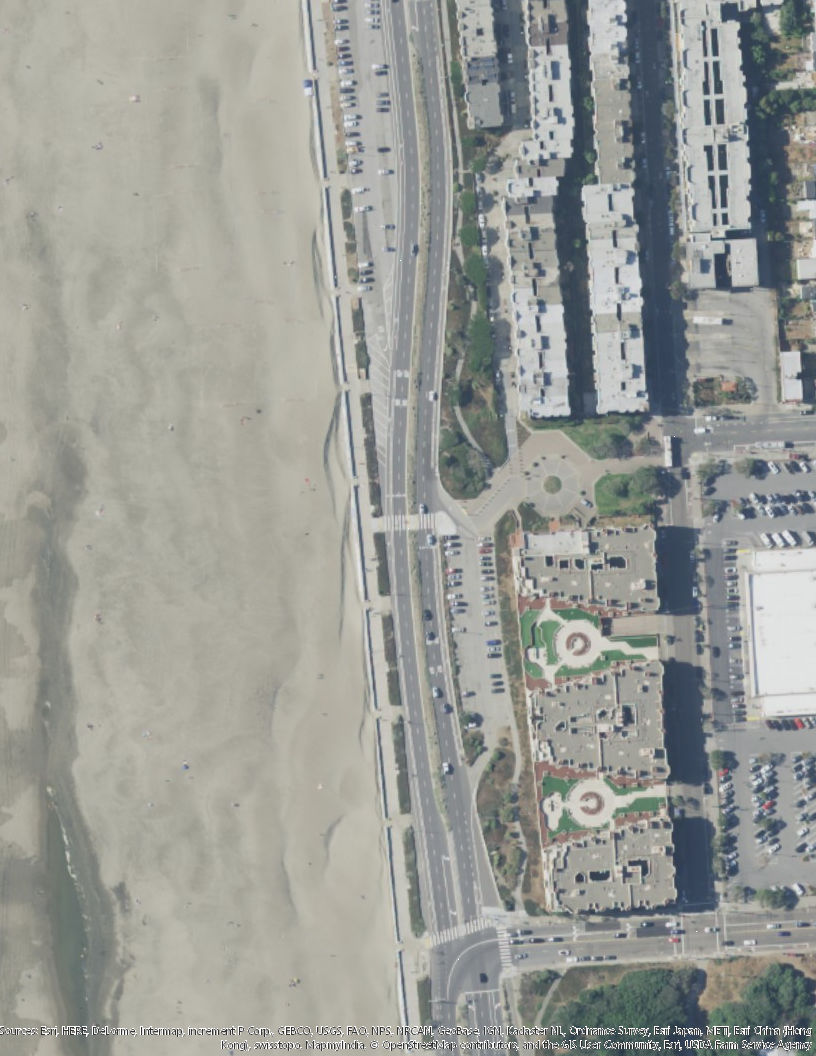zebracross: (431, 923, 460, 948), (498, 925, 514, 967), (466, 915, 493, 936), (419, 510, 440, 530), (384, 515, 411, 530)
